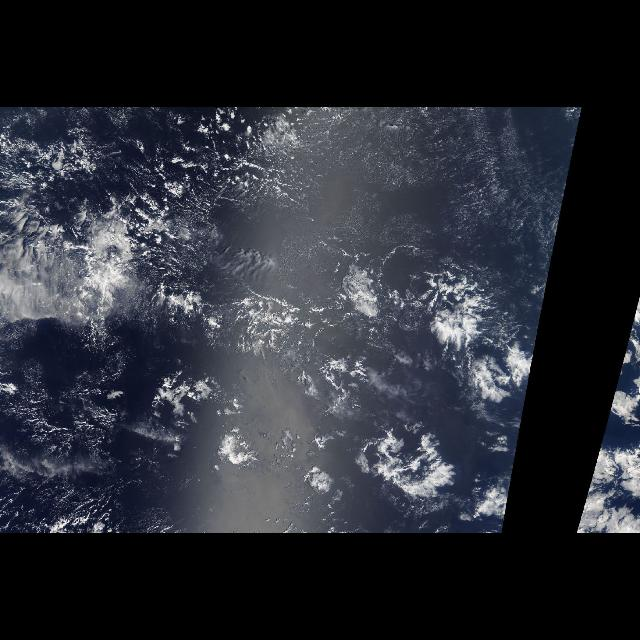Fish: (142, 275, 316, 365)
Sugar: (168, 114, 576, 270), (12, 347, 134, 527)
